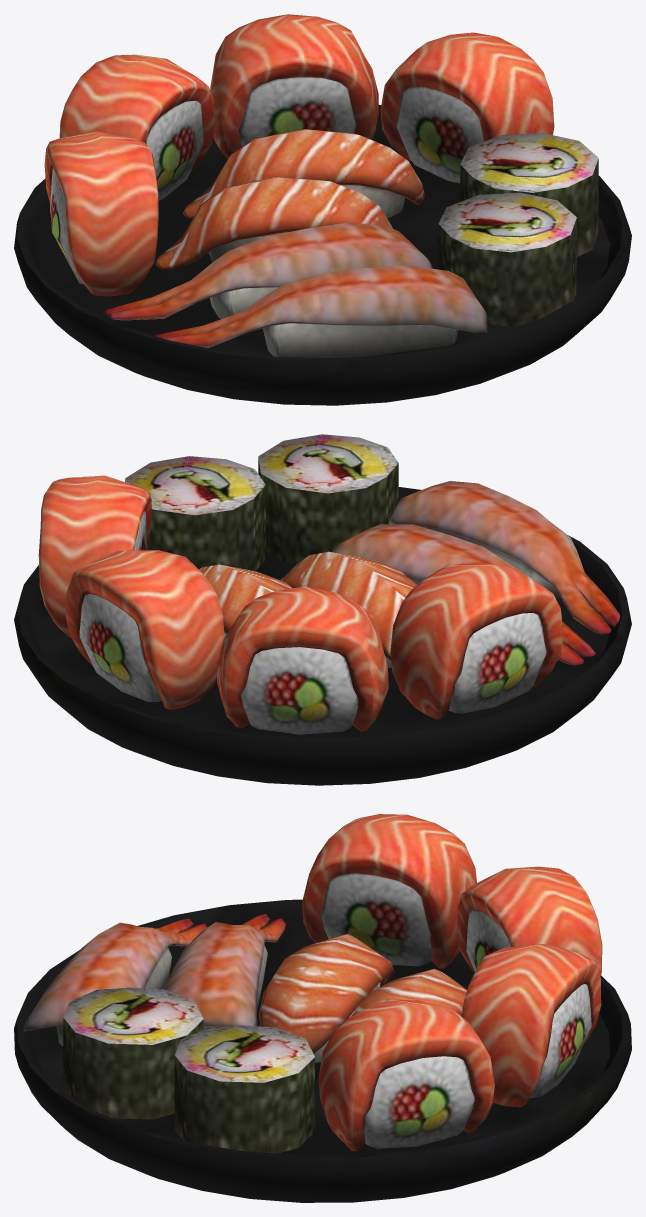
File: item_1751815587160.glb
3 views of the same model, one above another, from view 1: azimuth 30°, elevation 25°; view 2: azimuth 150°, elevation 25°; view 3: azimuth 270°, elevation 25° (orthographic).
Visible parts, largest first — view 1: Sushi; view 2: Sushi; view 3: Sushi.
Part boxes in pixels (<box>): Sushi: <box>14,14,631,405</box>; Sushi: <box>14,434,631,785</box>; Sushi: <box>14,814,631,1202</box>.
Bounding box in the file's own units: 0.1422 × 0.0475 × 0.1422.
Materials: 4 (4 with a texture image).
